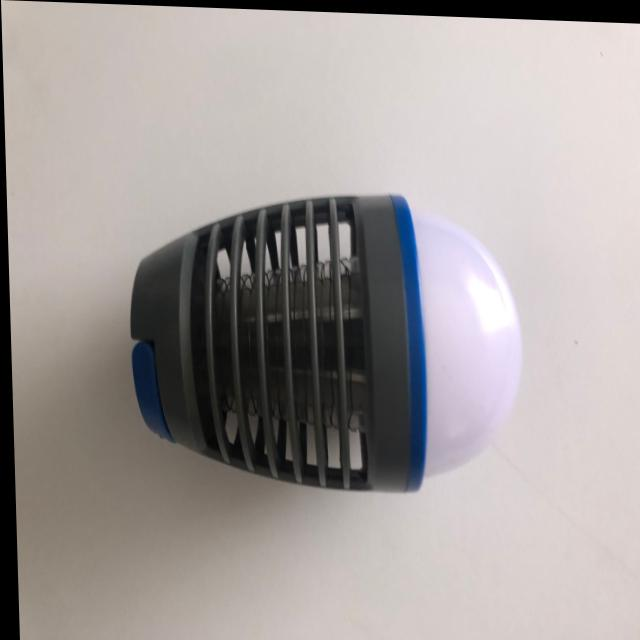Mosquito Killer: (123, 181, 524, 496)
